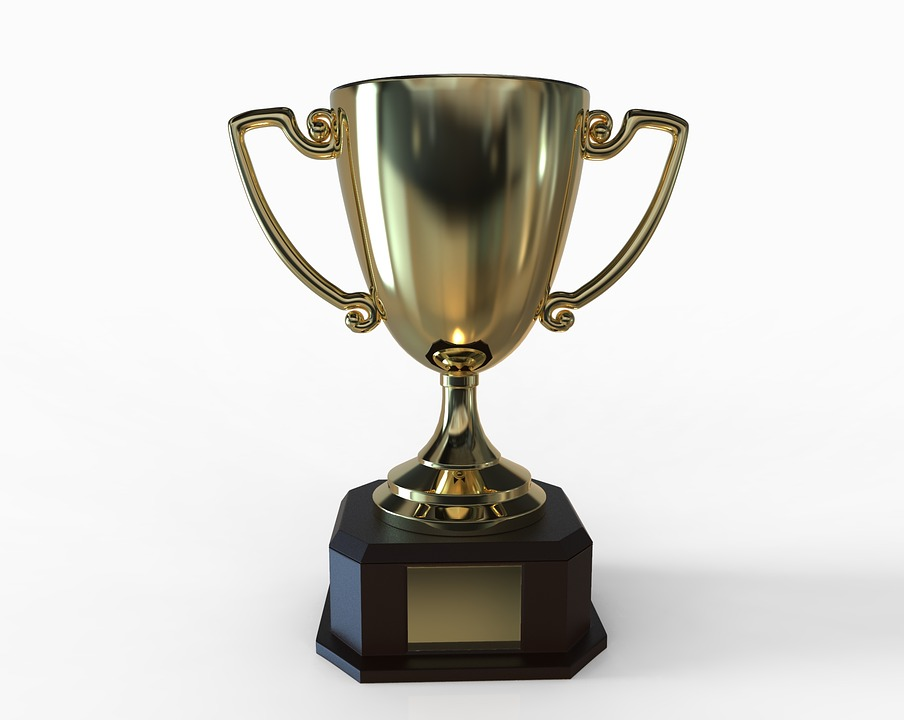trophy: (220, 71, 694, 685)
